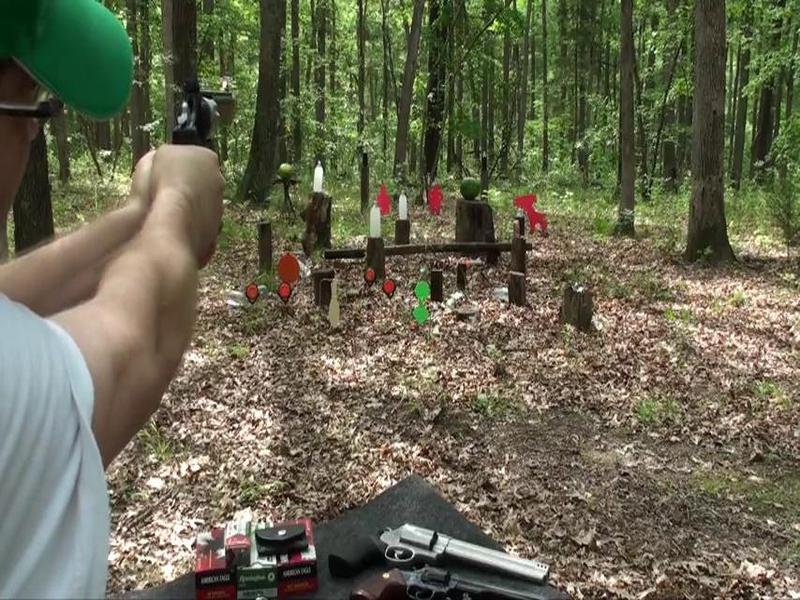Revolver: (160, 66, 242, 176)
